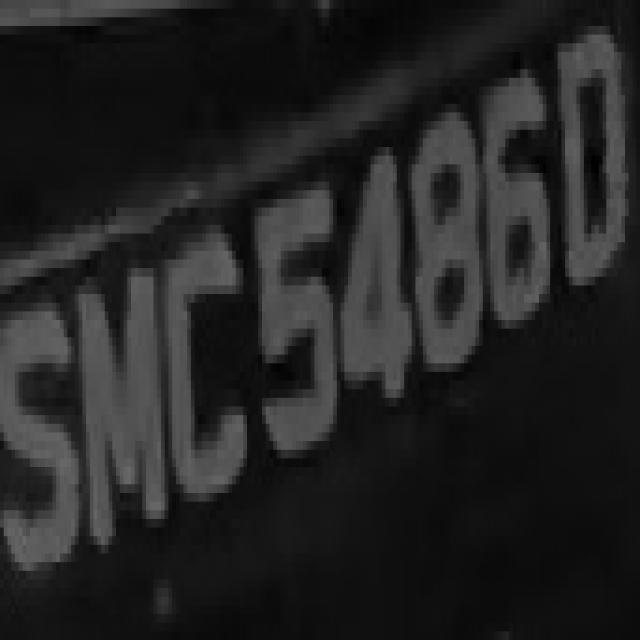4: (329, 113, 412, 441)
5: (258, 164, 344, 450)
6: (471, 43, 554, 355)
8: (408, 87, 490, 389)
C: (161, 190, 254, 536)
D: (546, 17, 636, 303)
M: (78, 234, 168, 596)
S: (3, 268, 78, 614)
